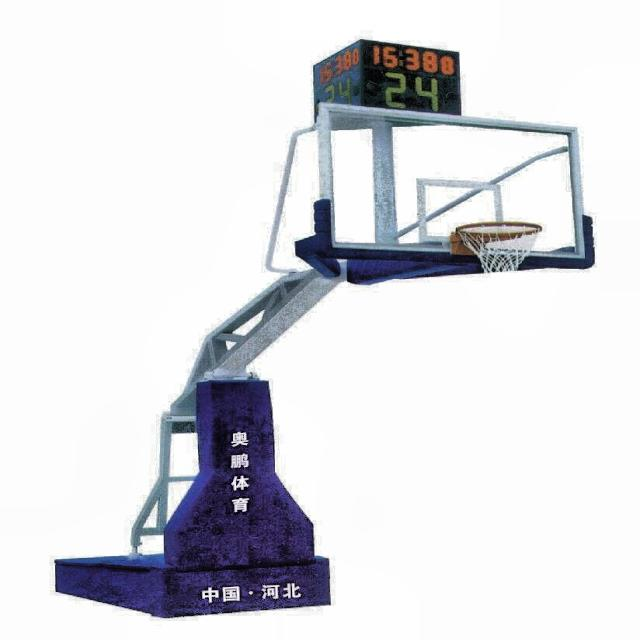rim: (454, 220, 543, 279)
